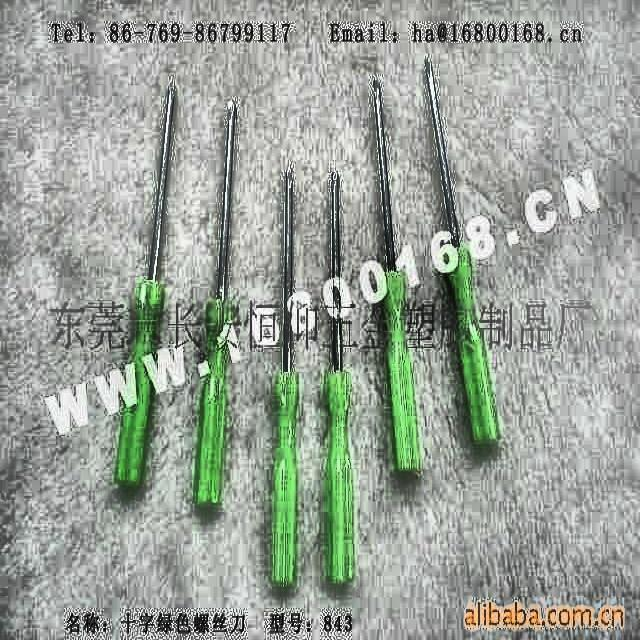screwdriver: (424, 54, 501, 448), (114, 78, 186, 498), (191, 97, 239, 512), (372, 79, 420, 477), (268, 163, 301, 589), (322, 170, 354, 589)
